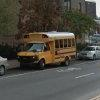buses: (17, 32, 78, 70)
